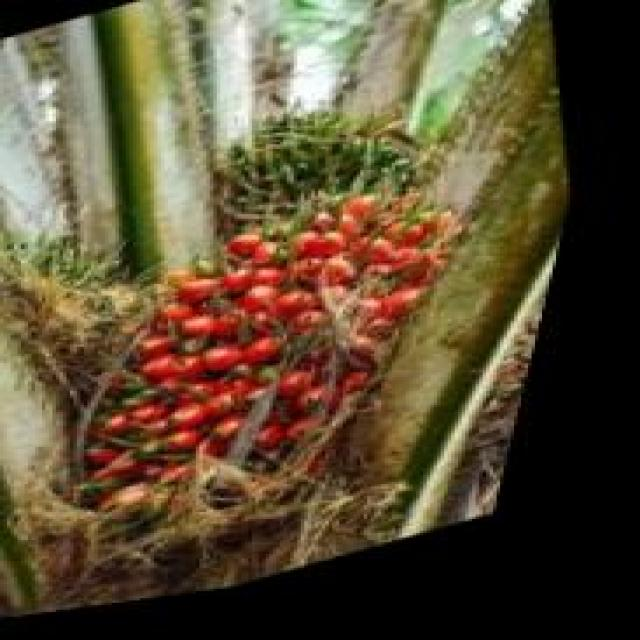Ripefruit: (69, 170, 548, 514)
